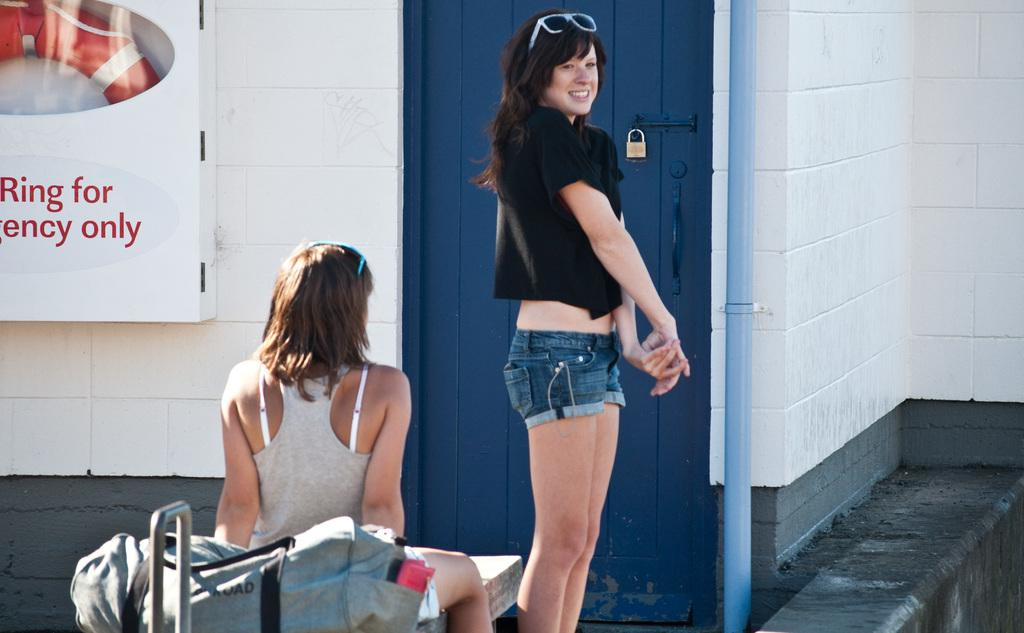Luggage-and-bags: (63, 515, 425, 632)
